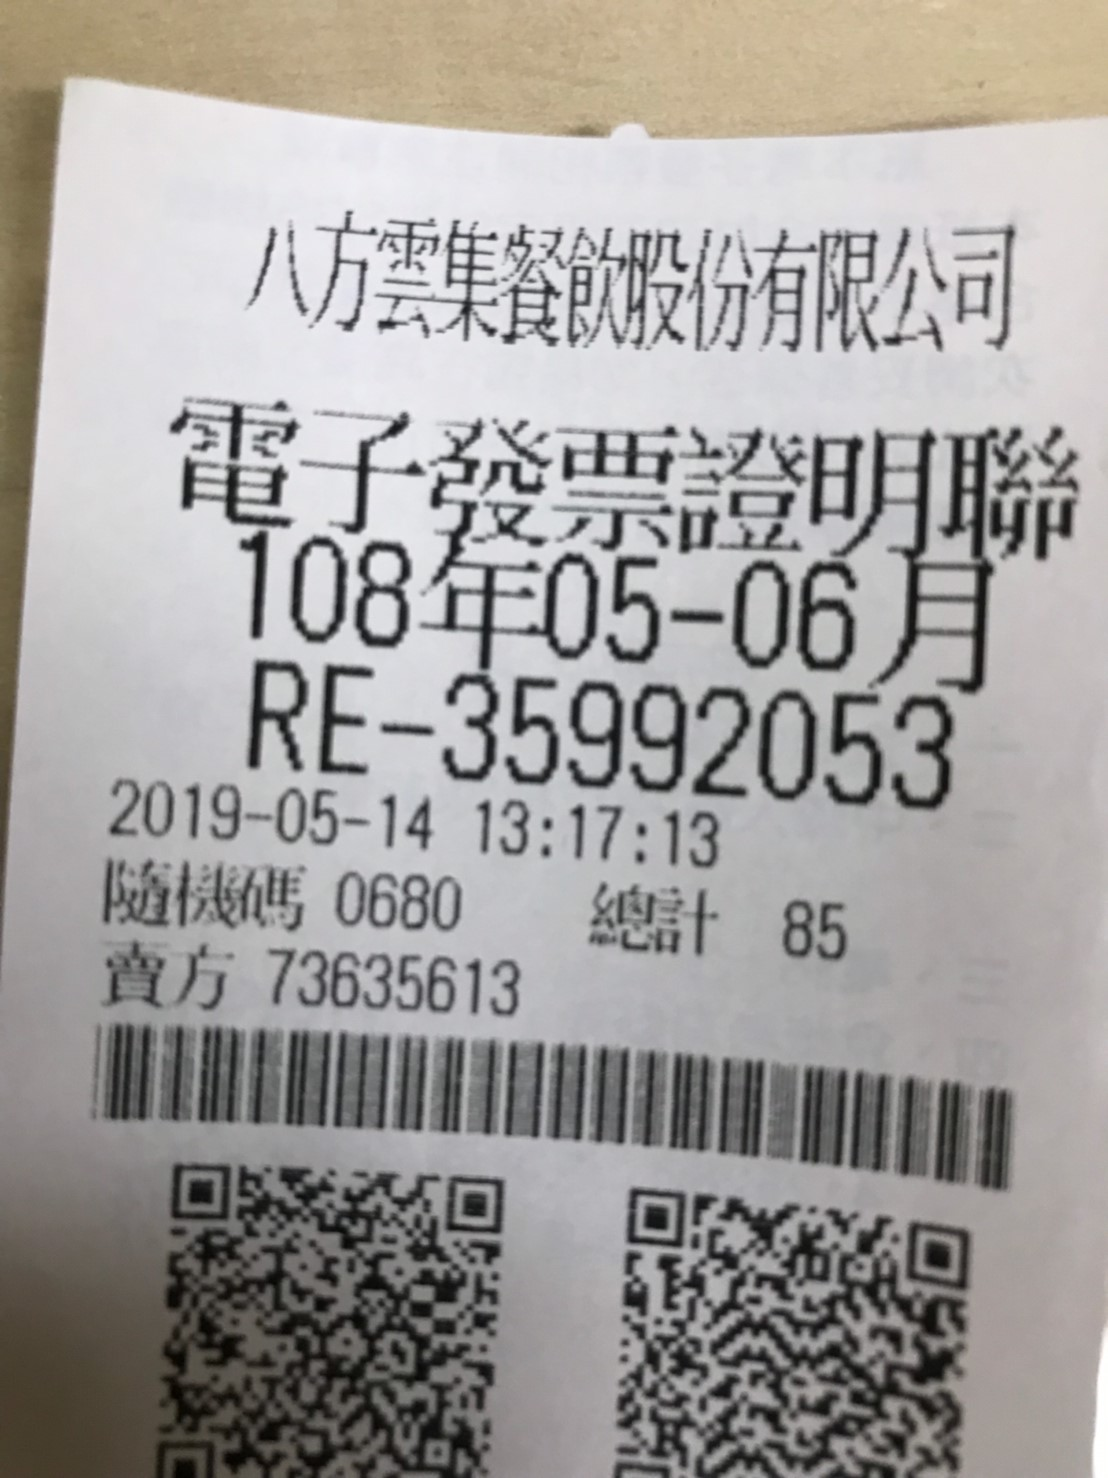Date_New: (236, 527, 997, 701)
Number_New: (435, 667, 952, 812)
